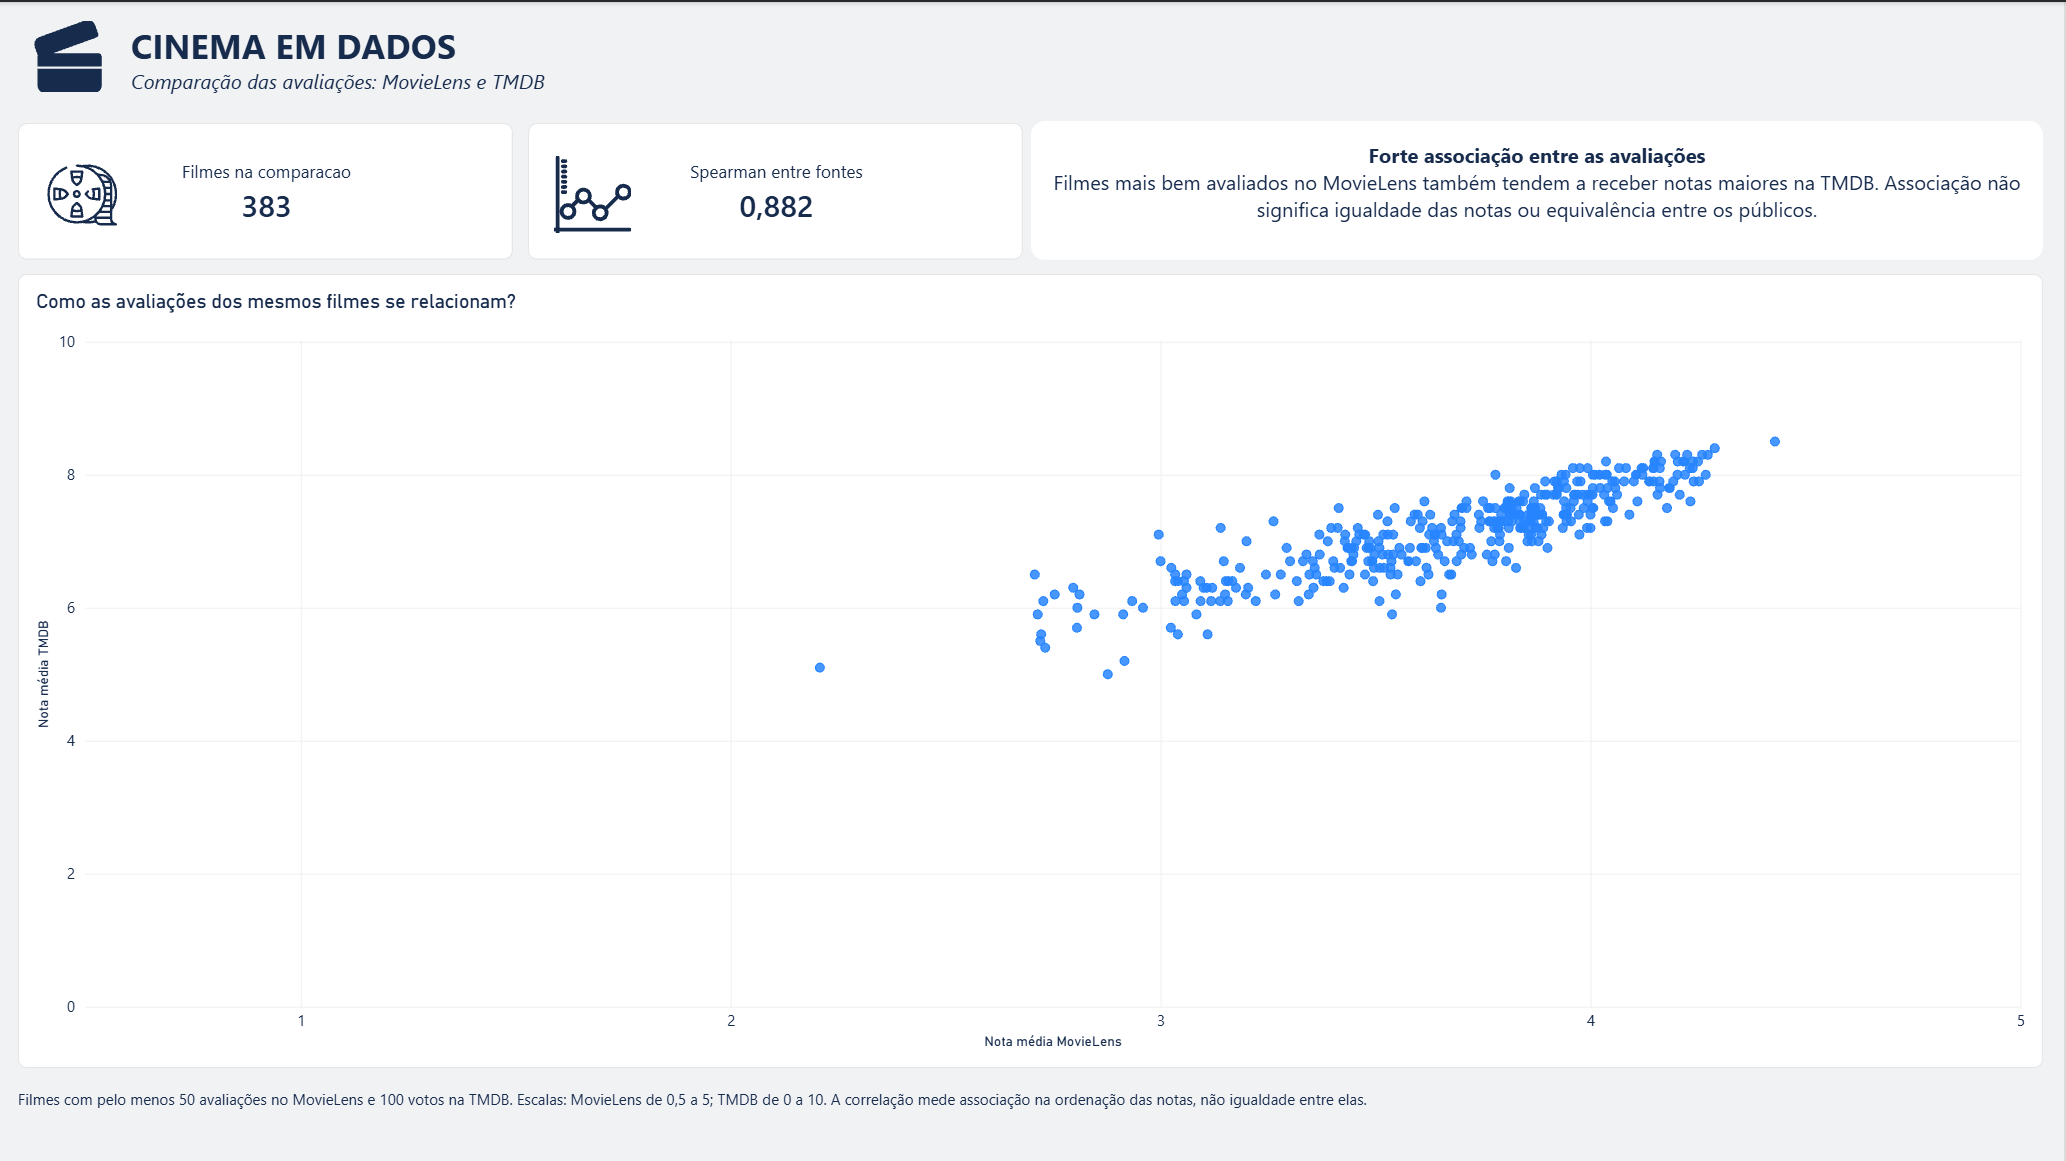

What the dashboard file says about the page in this screenshot:
{"tool":"powerbi","page":{"name":"Comparação entre fontes","canvas":[1920,1080],"ordinal":2},"visuals":[{"type":"shape","box":[960.1,110.6,940.6,129.2],"z":0},{"type":"cardVisual","fields":{"Data":["filmes_tmdb.Filmes na Comparacao"]},"box":[18.6,112.5,460.1,127.3],"z":1000},{"type":"cardVisual","fields":{"Data":["filmes_tmdb.Spearman entre Fontes"]},"box":[492.6,112.5,460.1,127.3],"z":2000},{"type":"textbox","box":[18.6,1010.3,1882.1,58.6],"z":3000},{"type":"textbox","box":[123.6,17.7,1432.3,74.4],"z":4000},{"type":"image","box":[18.6,17.7,95.7,66],"z":5000},{"type":"image","box":[506.5,143.4,92,71.6],"z":6000},{"type":"image","box":[41.8,146.6,72.5,65.1],"z":7000},{"type":"textbox","box":[960.1,110.6,940.6,129.2],"z":8000},{"type":"scatterChart","title":"Como as avaliações dos mesmos filmes se relacionam?","fields":{"Category":["Comparacao Fontes.movie_id"],"X":["Avg(Comparacao Fontes.Nota MovieLens)"],"Y":["Avg(Comparacao Fontes.Nota TMDB)"]},"box":[18.6,252.8,1882.1,738],"z":9000}]}

Visuals, with their boxes in screenshot pixels (x1, y1, x2, y2), scaled from the page's 1920x1080 canvas onto the 2066x1161 screenshot:
shape: bbox(1033, 119, 2045, 258)
cardVisual - filmes_tmdb.Filmes na Comparacao: bbox(20, 121, 515, 258)
cardVisual - filmes_tmdb.Spearman entre Fontes: bbox(530, 121, 1025, 258)
textbox: bbox(20, 1086, 2045, 1149)
textbox: bbox(133, 19, 1674, 99)
image: bbox(20, 19, 123, 90)
image: bbox(545, 154, 644, 231)
image: bbox(45, 158, 123, 228)
textbox: bbox(1033, 119, 2045, 258)
"Como as avaliações dos mesmos filmes se relacionam?" scatterChart: bbox(20, 272, 2045, 1065)
